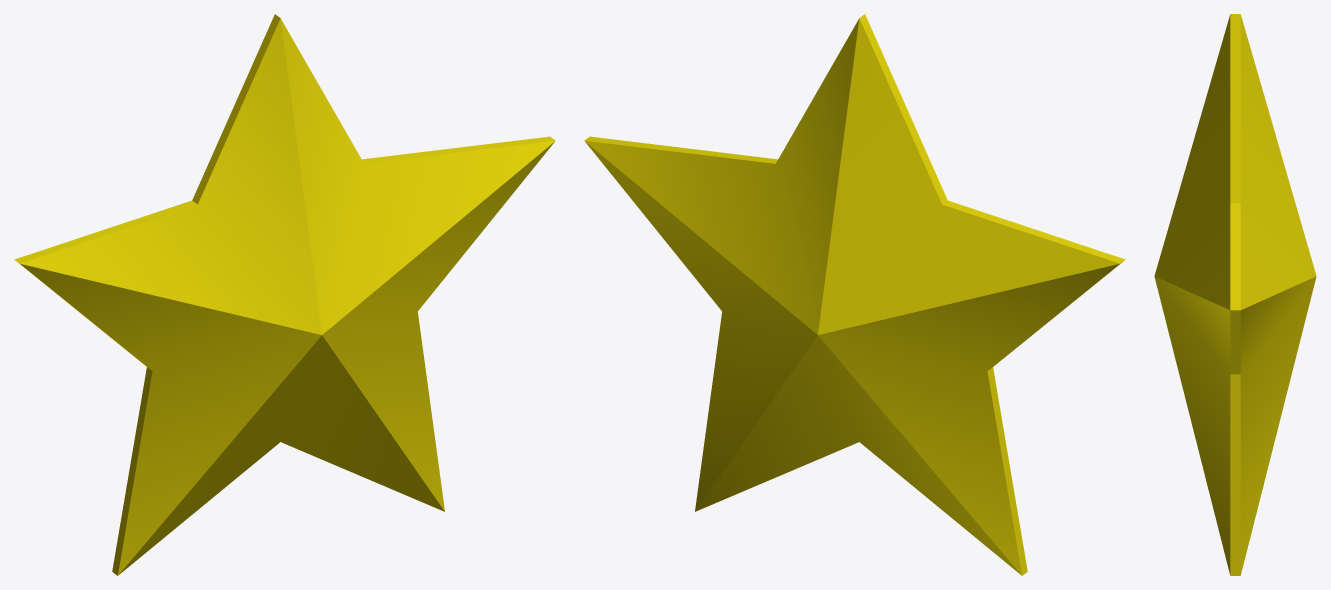
The model's file is Star_geo_placeholder.fbx.
3 renders of one model, left to right at view 1: azimuth 30°, elevation 25°; view 2: azimuth 150°, elevation 25°; view 3: azimuth 270°, elevation 25°, orthographic. The views are drawn at different scales.
Parts seen in each view (by area): view 1: star_geo_placeholder; view 2: star_geo_placeholder; view 3: star_geo_placeholder.
Boxes of the visible parts, x1,y1,x2,y2 form: star_geo_placeholder: [14, 14, 555, 575]; star_geo_placeholder: [584, 14, 1125, 575]; star_geo_placeholder: [1154, 14, 1316, 575].
Size of the model in its own units: 14.64 by 13.94 by 4.19.
